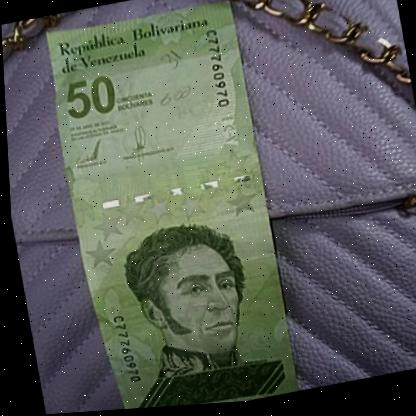fifty-front-vef: (37, 0, 295, 414)
